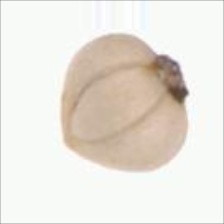L5: (68, 63, 167, 146), (150, 50, 189, 108), (57, 117, 91, 160)
L6: (57, 31, 194, 176)
